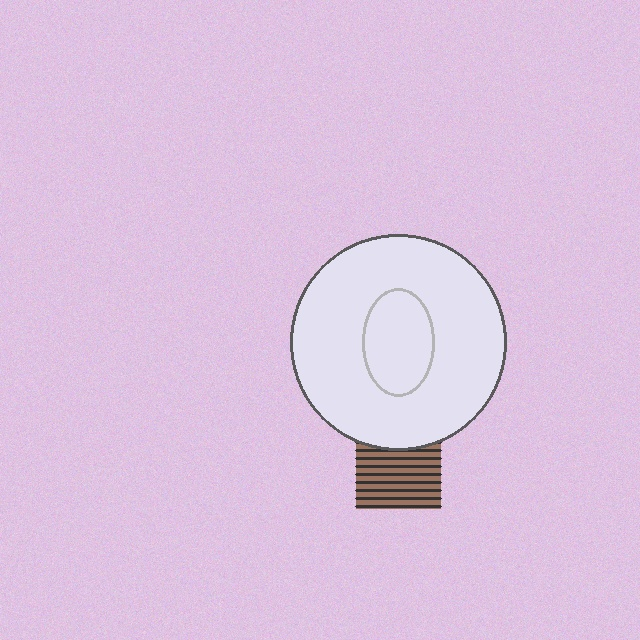bulb: (286, 230, 510, 513)
